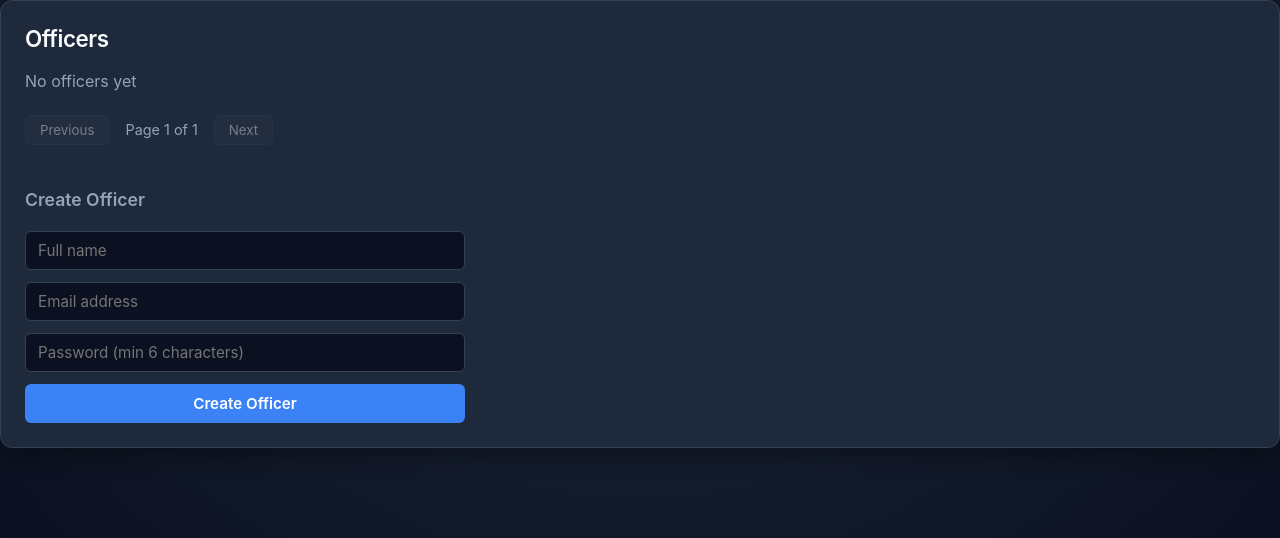
OfficersPanel › officer form shows an error when password is too short
Expected: the text "No officers yet" is shown, [25,71,136,91]
// Type a 3-character password and submit
Type "New Officer" into the field with placeholder "Full name" at (245, 250), box [25,231,465,270]
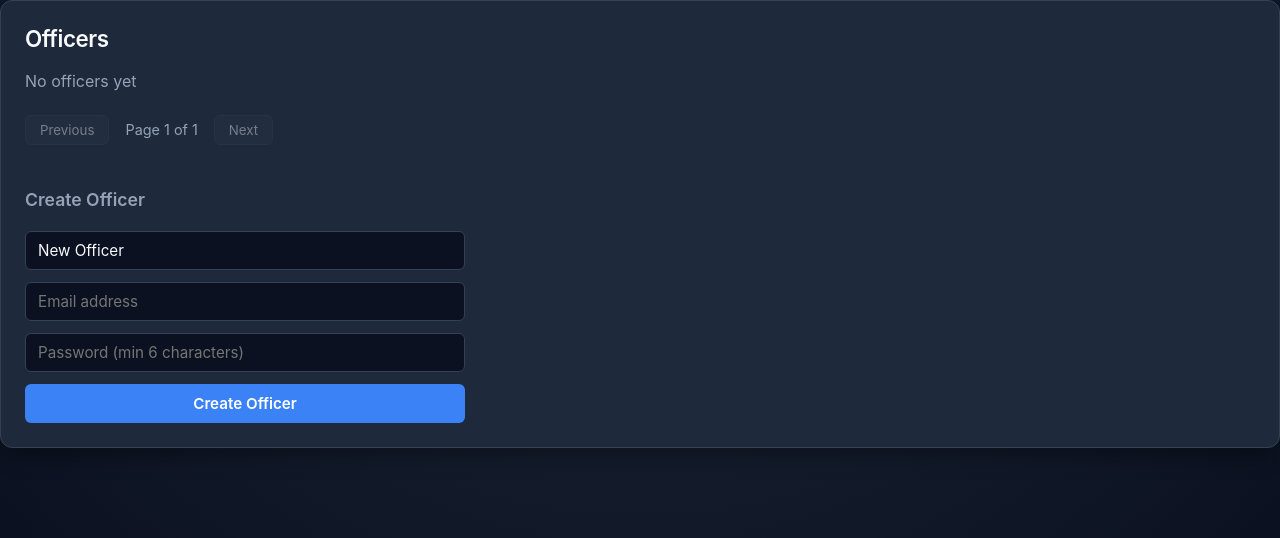
Type "new@civicwatch.com" into the field with placeholder "Email address" at (245, 301), box [25,282,465,321]
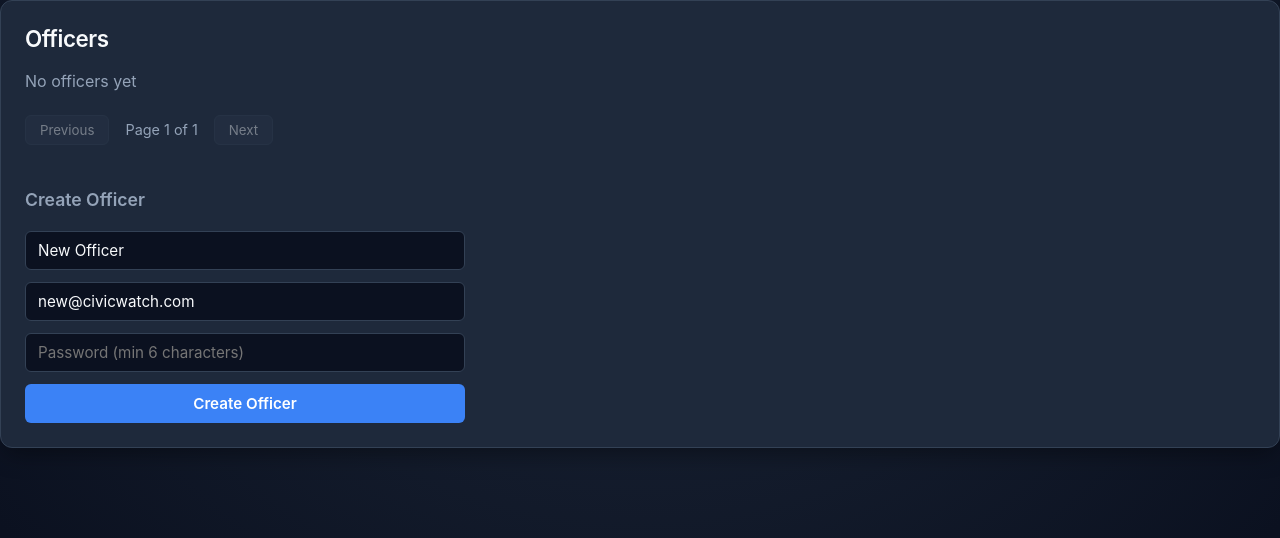
Type "abc" into the password field with placeholder "Password (min 6 characters)" at (245, 352), box [25,333,465,372]
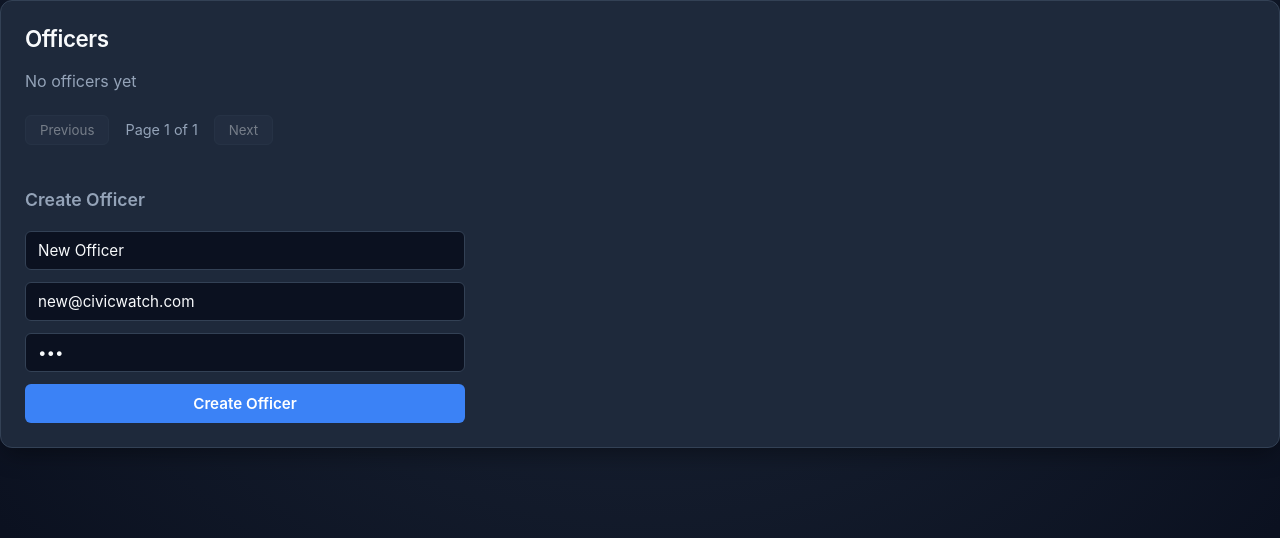
Click the button "Create Officer" at (245, 403), box [25,384,465,423]
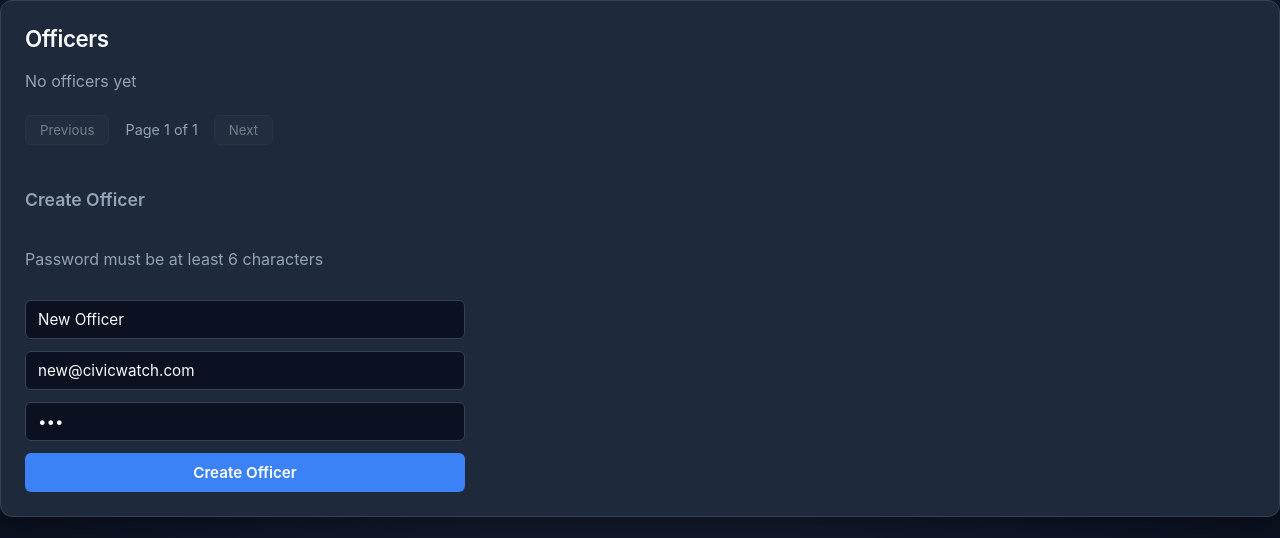
Result: the text "Password must be at least 6 characters" is shown at [25,249,323,269]
